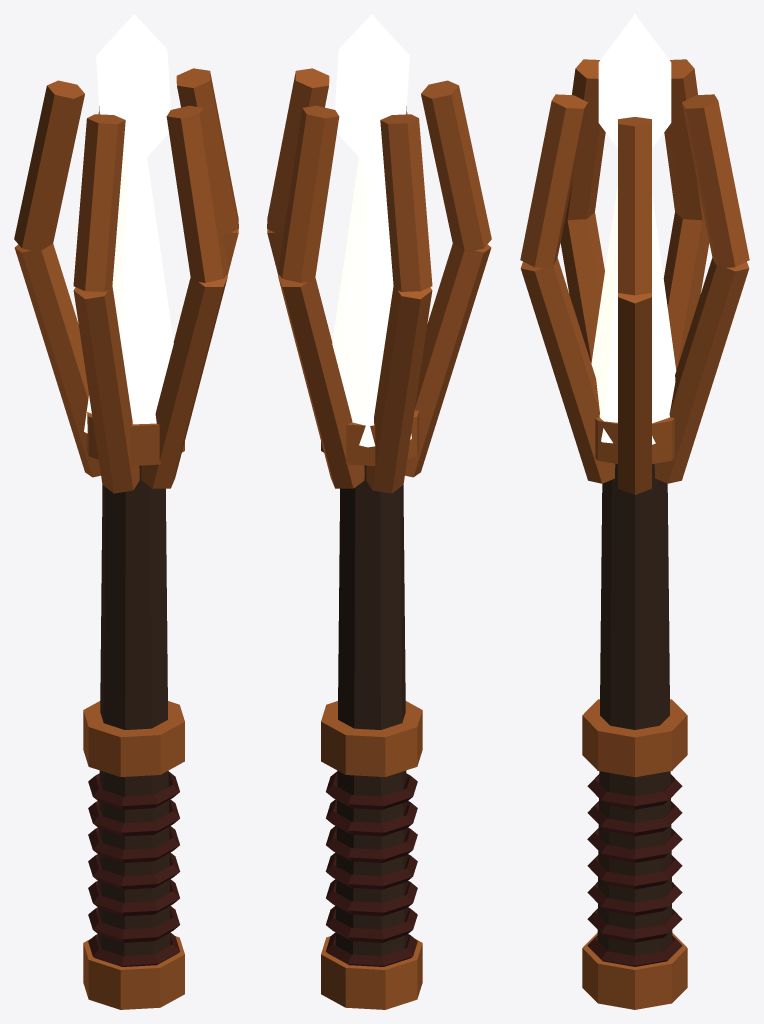
Rendered from pyromancer_weapon.glb.
3 renders of one model, left to right at view 1: azimuth 30°, elevation 25°; view 2: azimuth 150°, elevation 25°; view 3: azimuth 270°, elevation 25°, orthographic.
Parts seen in each view (by area): view 1: Pyromancer_Weapon_Static; view 2: Pyromancer_Weapon_Static; view 3: Pyromancer_Weapon_Static.
Boxes of the visible parts, box(x1,y1,x2,y2) form: Pyromancer_Weapon_Static: box(14, 14, 238, 1009); Pyromancer_Weapon_Static: box(267, 14, 491, 1009); Pyromancer_Weapon_Static: box(520, 14, 749, 1009).
Bounding box in the file's own units: 0.1804 × 0.879 × 0.1878.
